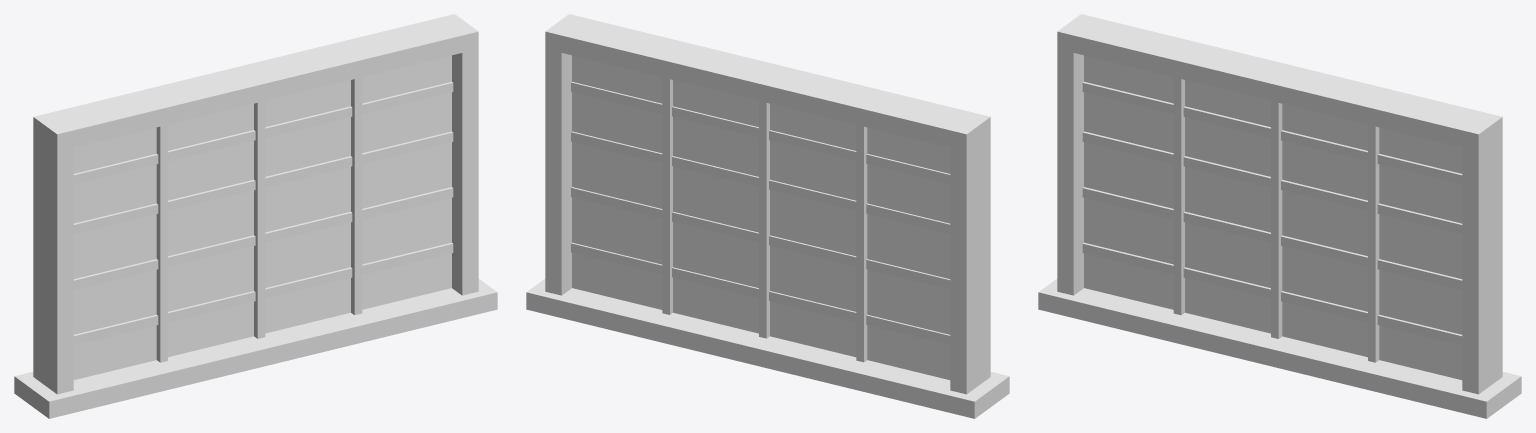
File: window_018.fbx
3 renders of one model, left to right at view 1: azimuth 30°, elevation 25°; view 2: azimuth 150°, elevation 25°; view 3: azimuth 330°, elevation 25°, orthographic.
Visible parts, largest first — view 1: window_018; view 2: window_018; view 3: window_018.
Boxes of the visible parts, x1,y1,x2,y2 form: window_018: [14, 14, 497, 418]; window_018: [526, 14, 1009, 418]; window_018: [1038, 14, 1521, 418].
Bounding box in the file's own units: 318 × 42.75 × 188.
